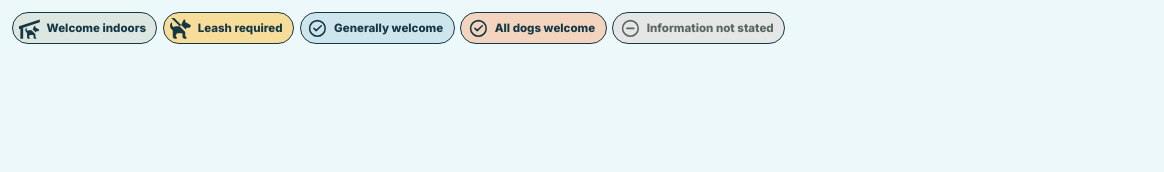
it: AccessSymbols › renders five labelled controls and keeps activated details visible
Expected: the element named "Dog access at Brikk" is shown, [12, 12, 785, 44]
Click the button "Information not stated": [699, 28] box [612, 12, 785, 44]
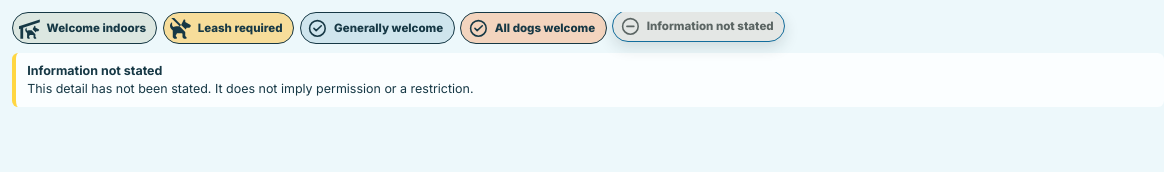
Expected: the element that starts with "Information not stated" shows "does not imply permission", [27, 81, 474, 96]
